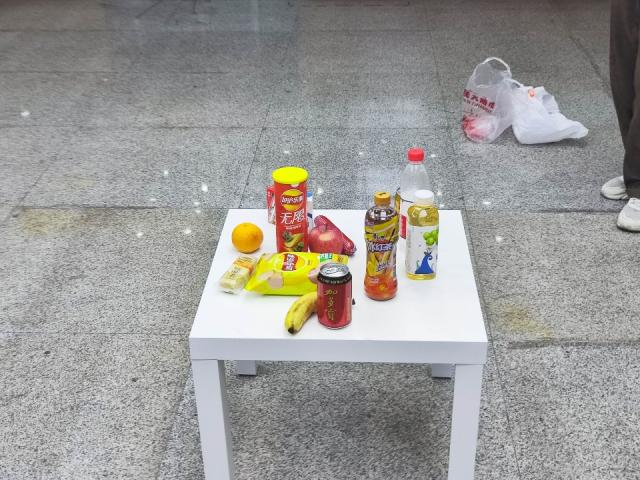Canned_drinks: (319, 263, 353, 326)
cylinder: (272, 165, 308, 251)
